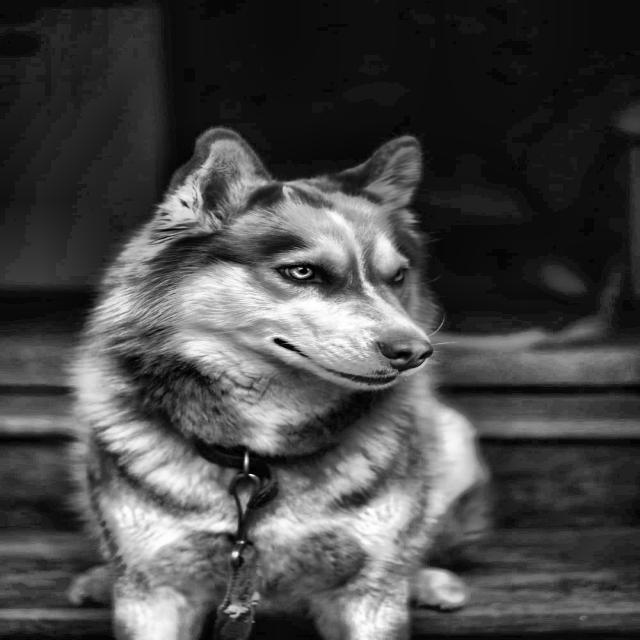husky: (69, 98, 515, 450)
